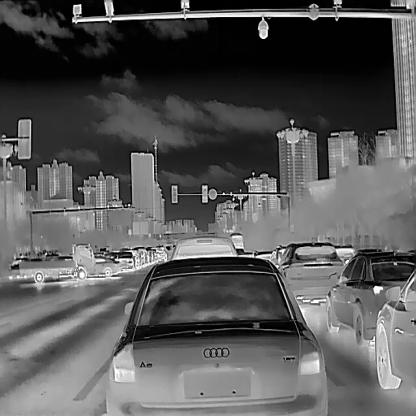bus: (228, 232, 243, 254)
car: (104, 255, 327, 415), (326, 253, 415, 346), (374, 270, 415, 388), (277, 241, 344, 303), (93, 252, 121, 277), (116, 251, 134, 269)
truck: (8, 242, 96, 282)
